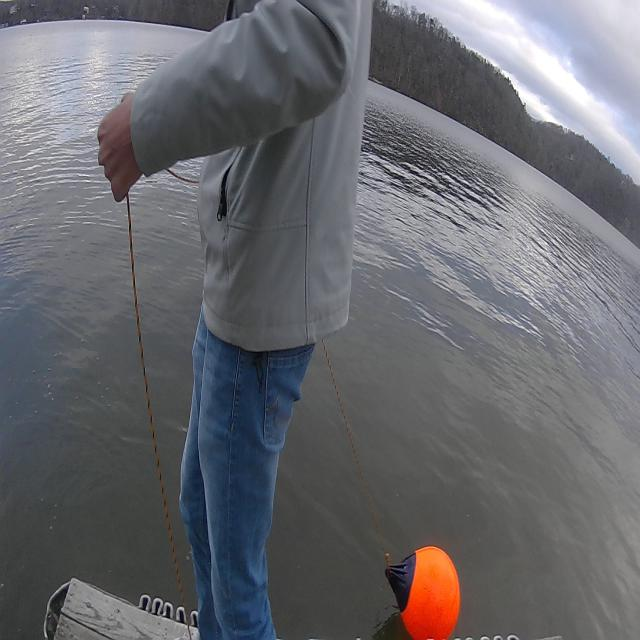Buoy: (378, 536, 468, 640)
